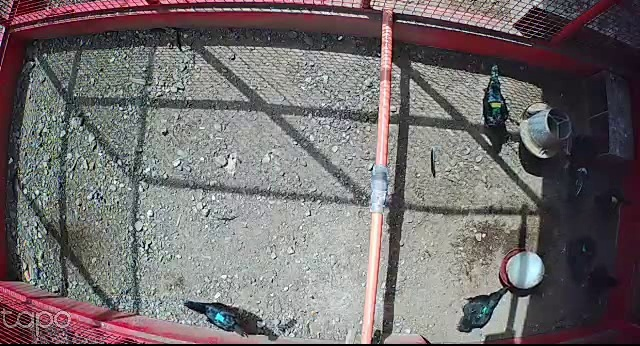Chicken: (475, 63, 513, 138), (455, 284, 511, 333), (182, 299, 249, 339)
Drinker: (496, 247, 546, 293)
Saddle_Color_Blue: (214, 313, 224, 322)
Saddle_Color_Green: (477, 306, 489, 316)
Saddle_Color_YellowGreen: (489, 102, 501, 115)
